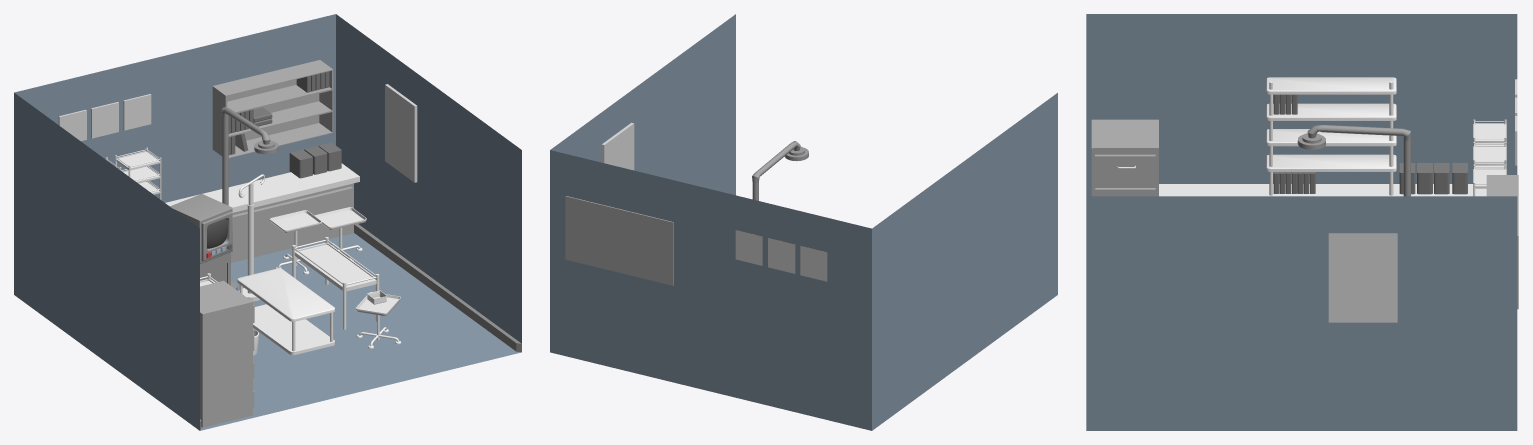
File: Total_test_v1.fbx
3 renders of one model, left to right at view 1: azimuth 30°, elevation 25°; view 2: azimuth 150°, elevation 25°; view 3: azimuth 270°, elevation 25°, orthographic. The views are drawn at different scales.
Parts seen in each view (by area): view 1: Plane, Cube.018, Cube.019, Cube.016, Cube.017, Cube.008, Cube.020, Cube.009, Plane.001, Cube.010, Cube.003, Cylinder.017 (+12 smaller); view 2: Plane, Cube.019, Cube.020, Cube.075, Cube.076, Cube.077, Cylinder.017; view 3: Plane, Cube.020, Cube.018, Cube.017, Cube.059, Cube.056, Cube.058, Cylinder.017, Cube.057, Cube.019, Cylinder.061, Cube.047 (+4 smaller).
Boxes of the visible parts, x1=… form: Plane: x1=14, y1=14, x2=521, y2=430; Cube.018: x1=200, y1=280, x2=254, y2=427; Cube.019: x1=212, y1=60, x2=333, y2=158; Cube.016: x1=231, y1=183, x2=353, y2=262; Cube.017: x1=165, y1=163, x2=359, y2=212; Cube.008: x1=237, y1=268, x2=334, y2=321; Cube.020: x1=385, y1=84, x2=417, y2=182; Cube.009: x1=253, y1=304, x2=334, y2=355; Plane.001: x1=200, y1=224, x2=521, y2=430; Cube.010: x1=294, y1=243, x2=376, y2=291; Cube.003: x1=170, y1=194, x2=232, y2=263; Cylinder.017: x1=221, y1=107, x2=278, y2=290; Plane: x1=550, y1=14, x2=1057, y2=430; Cube.019: x1=565, y1=196, x2=673, y2=285; Cube.020: x1=601, y1=122, x2=634, y2=170; Cube.075: x1=800, y1=246, x2=827, y2=281; Cube.076: x1=768, y1=238, x2=795, y2=273; Cube.077: x1=735, y1=230, x2=762, y2=265; Cylinder.017: x1=752, y1=141, x2=808, y2=200; Plane: x1=1086, y1=14, x2=1517, y2=430; Cube.020: x1=1328, y1=233, x2=1397, y2=322; Cube.018: x1=1091, y1=119, x2=1158, y2=196; Cube.017: x1=1159, y1=184, x2=1473, y2=196; Cube.059: x1=1266, y1=77, x2=1396, y2=94; Cube.056: x1=1266, y1=154, x2=1396, y2=171; Cube.058: x1=1266, y1=103, x2=1396, y2=120; Cylinder.017: x1=1297, y1=125, x2=1410, y2=196; Cube.057: x1=1266, y1=129, x2=1396, y2=146; Cube.019: x1=1486, y1=175, x2=1518, y2=309; Cylinder.061: x1=1269, y1=81, x2=1393, y2=195; Cube.047: x1=1473, y1=145, x2=1506, y2=165.
Size of the model in its own units: 660 by 400 by 661.
